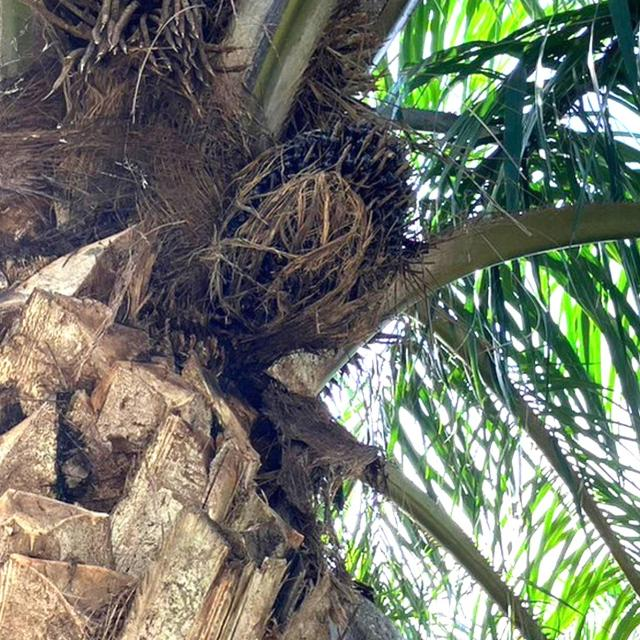unripe: (217, 98, 433, 331)
